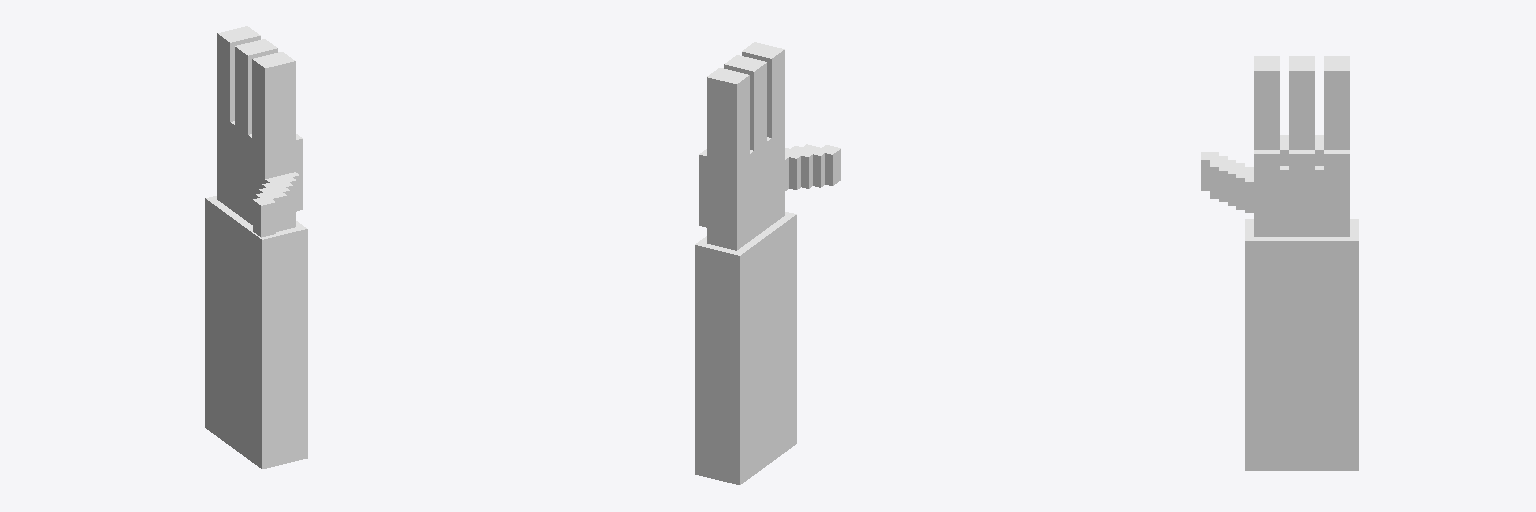
Rendered from Brazo-0-hacha.obj.
The picture shows the model from 3 angles: view 1: azimuth 30°, elevation 25°; view 2: azimuth 150°, elevation 25°; view 3: azimuth 270°, elevation 25°; orthographic projection.
Visible parts, largest first — view 1: hacha; view 2: hacha; view 3: hacha.
Part boxes in pixels (x1,y1,x2,y2): hacha: (205,26,307,468); hacha: (695,42,840,484); hacha: (1201,56,1358,470).
Bounding box in the file's own units: 0.9 × 5 × 1.8.